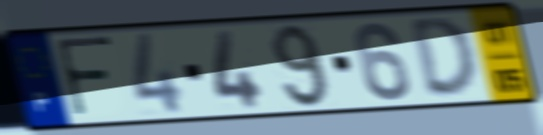4: (129, 30, 188, 118), (211, 27, 266, 112)
6: (351, 19, 412, 104)
9: (267, 22, 332, 111)
D: (406, 14, 480, 101)
F: (51, 34, 117, 122)
